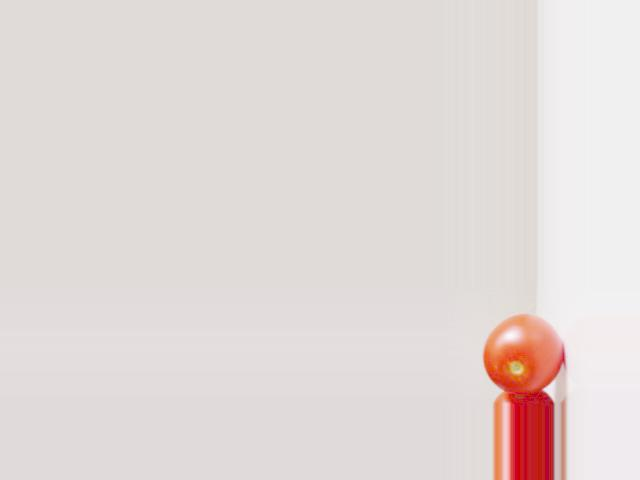tomato: (483, 314, 562, 394)
